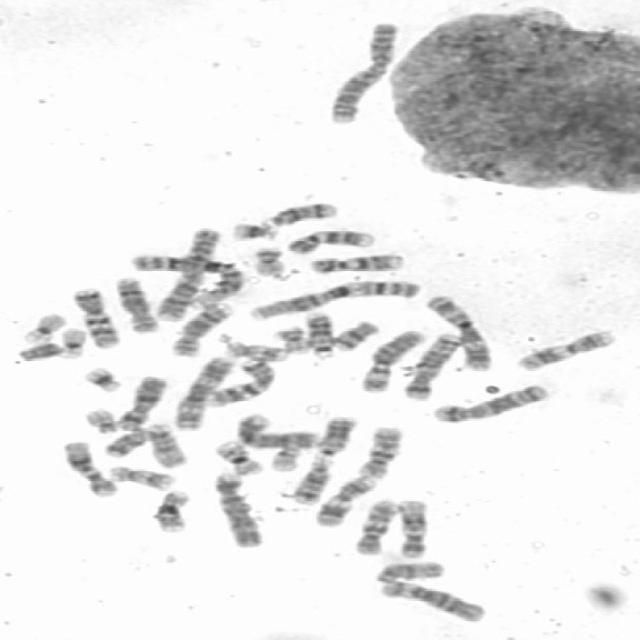A1: (248, 280, 422, 322), (128, 254, 244, 305)
A2: (327, 22, 404, 126), (153, 227, 224, 323)
A3: (425, 294, 494, 371), (173, 356, 237, 430)
B4: (210, 472, 268, 548), (235, 412, 322, 450)
B5: (430, 384, 550, 424), (402, 332, 461, 400)
C10: (350, 498, 400, 558), (357, 425, 405, 481)
C11: (512, 328, 616, 373), (314, 476, 376, 528)
C12: (62, 439, 118, 499), (395, 498, 433, 560)
C6: (379, 578, 490, 624), (358, 328, 427, 394)
C7: (206, 358, 276, 408), (73, 288, 121, 350)
C8: (168, 302, 234, 358), (114, 276, 160, 335)
C9: (284, 229, 376, 256), (308, 254, 406, 274)
D13: (314, 414, 358, 458), (304, 311, 337, 360)
D14: (258, 202, 337, 228), (291, 461, 333, 506)
D15: (148, 423, 188, 470), (372, 562, 448, 586)
E16: (152, 488, 194, 534), (215, 440, 266, 476)
E17: (106, 464, 176, 492), (224, 341, 288, 363)
E18: (332, 319, 382, 351), (100, 428, 150, 459)
F19: (20, 313, 66, 345), (57, 327, 87, 360)
F20: (252, 246, 286, 278), (275, 325, 311, 354)
G21: (82, 365, 124, 394), (228, 222, 280, 244)
G22: (82, 408, 121, 435), (266, 447, 303, 472)
X: (116, 374, 168, 430)
Y: (16, 341, 63, 362)
